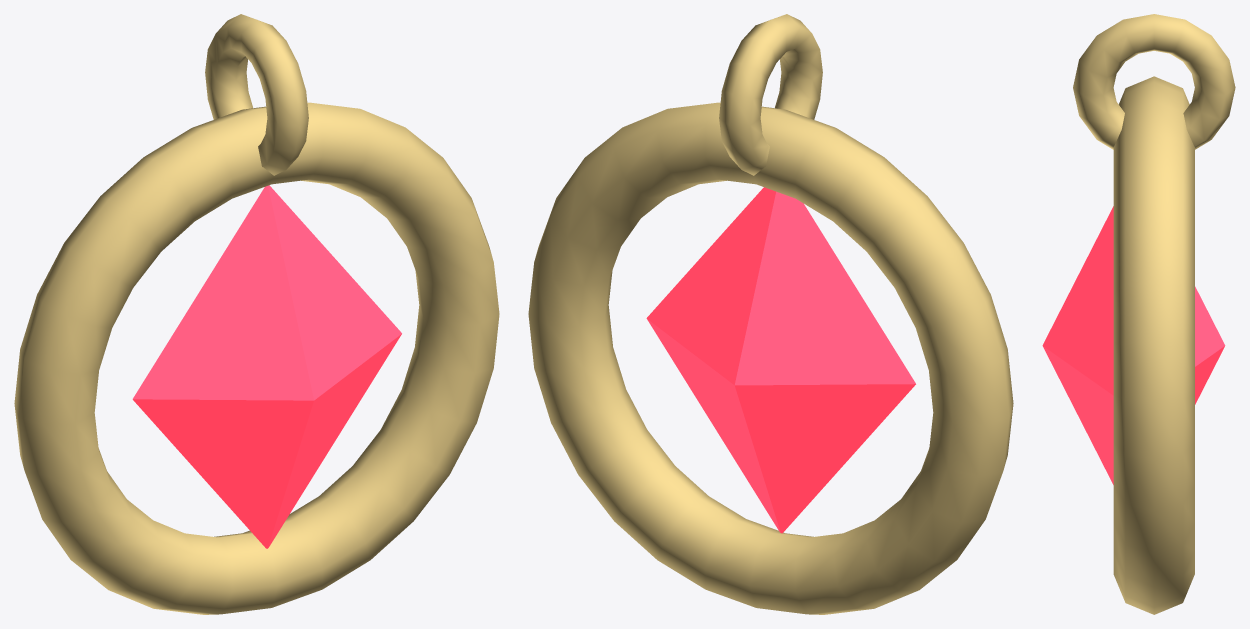
The model's file is amuleto.glb.
3 views of the same model, side by side, from view 1: azimuth 30°, elevation 25°; view 2: azimuth 150°, elevation 25°; view 3: azimuth 270°, elevation 25° (orthographic). The views are drawn at different scales.
Visible parts, largest first — view 1: amuleto; view 2: amuleto; view 3: amuleto.
Part boxes in pixels (x1,y1,x2,y2): amuleto: (14,14,499,614); amuleto: (528,14,1013,614); amuleto: (1042,14,1235,614).
Size of the model in its own units: 0.106 by 0.125 by 0.038.
